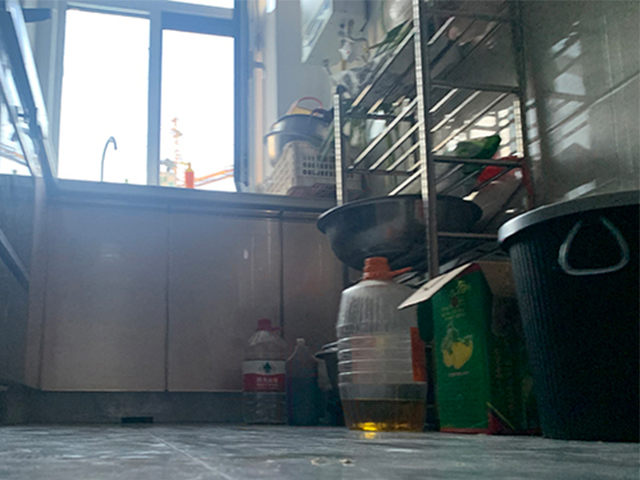cabinet: (38, 177, 311, 423)
trashcan: (496, 188, 640, 445)
